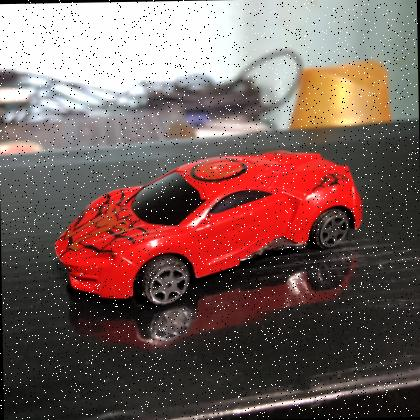Car: (45, 143, 370, 314)
